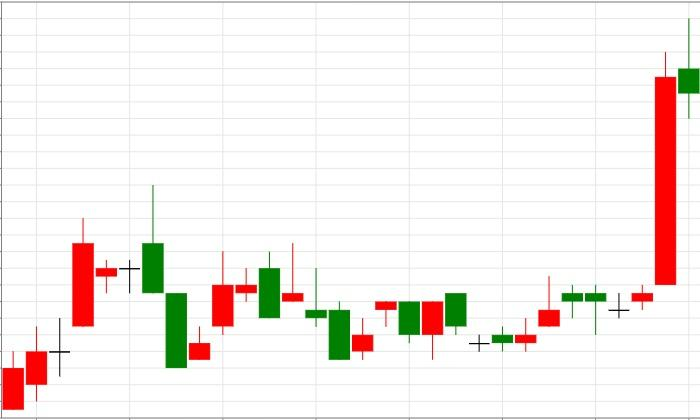bearish_engulfing_fall: (165, 252, 281, 369), (328, 301, 421, 361)
